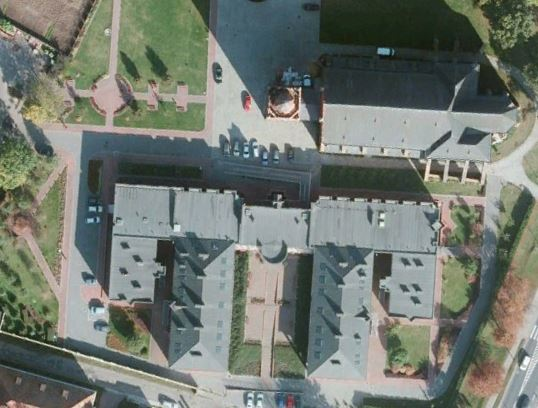block of flats: (101, 177, 442, 385)
church: (260, 52, 524, 165)
